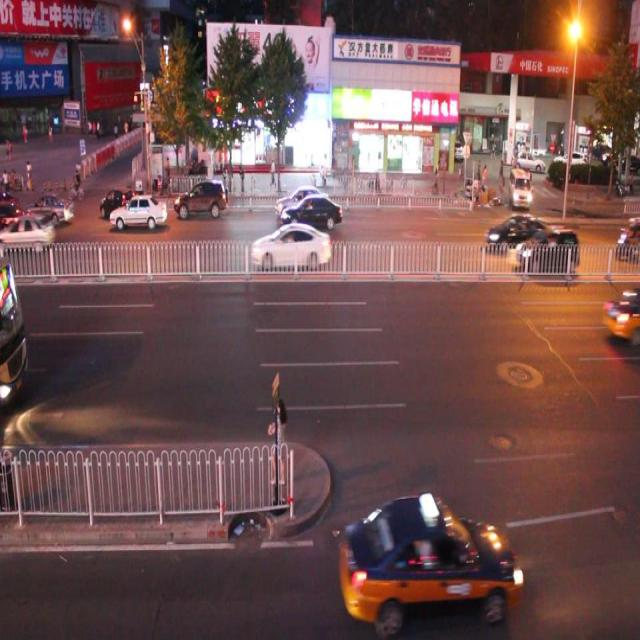car: (336, 492, 520, 624), (248, 222, 330, 272), (512, 224, 579, 274), (282, 194, 344, 235), (176, 179, 236, 220), (599, 287, 640, 347), (484, 213, 548, 250), (1, 211, 58, 252), (16, 188, 73, 228), (110, 192, 167, 231), (277, 184, 332, 223), (103, 185, 147, 225), (0, 200, 22, 238)
truck: (508, 166, 530, 207)
